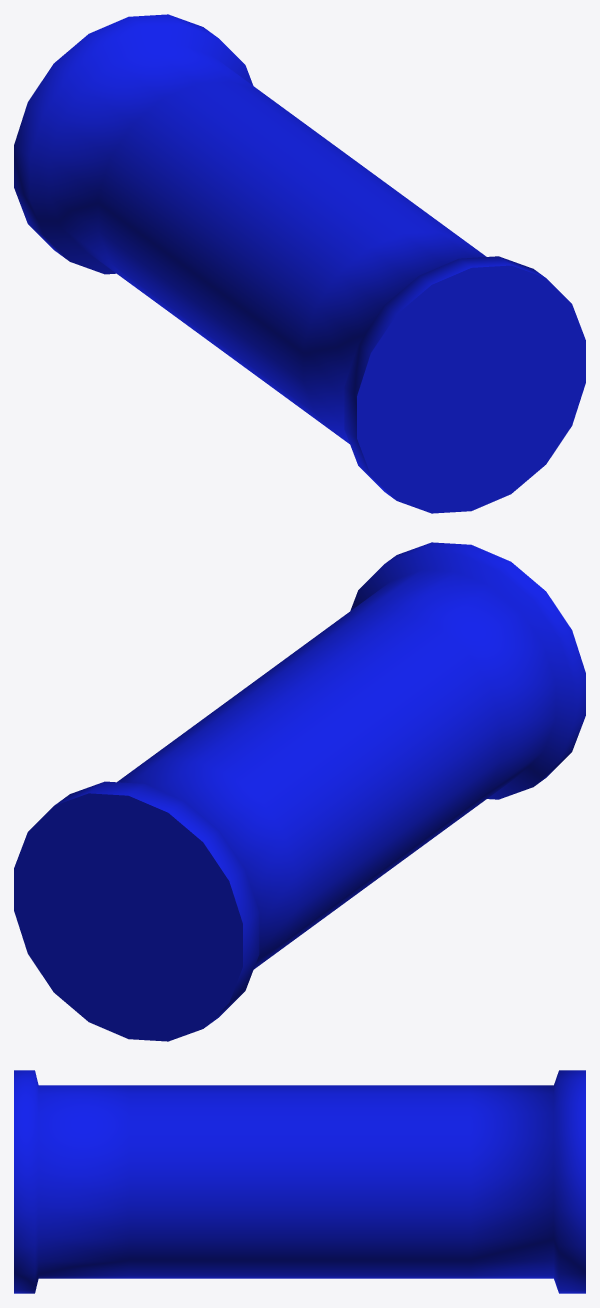
The model's file is boru.FBX.
3 renders of one model, top to bottom at view 1: azimuth 30°, elevation 25°; view 2: azimuth 150°, elevation 25°; view 3: azimuth 270°, elevation 25°, orthographic. The views are drawn at different scales.
Parts seen in each view (by area): view 1: Cylinder001; view 2: Cylinder001; view 3: Cylinder001.
Part boxes in pixels (x1=…): Cylinder001: x1=14, y1=14, x2=585, y2=513; Cylinder001: x1=14, y1=542, x2=585, y2=1041; Cylinder001: x1=14, y1=1070, x2=585, y2=1293.
Bounding box in the file's own units: 15.5 × 15.74 × 40.18.
